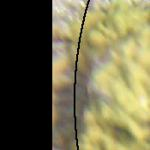alive: (51, 4, 148, 148)
